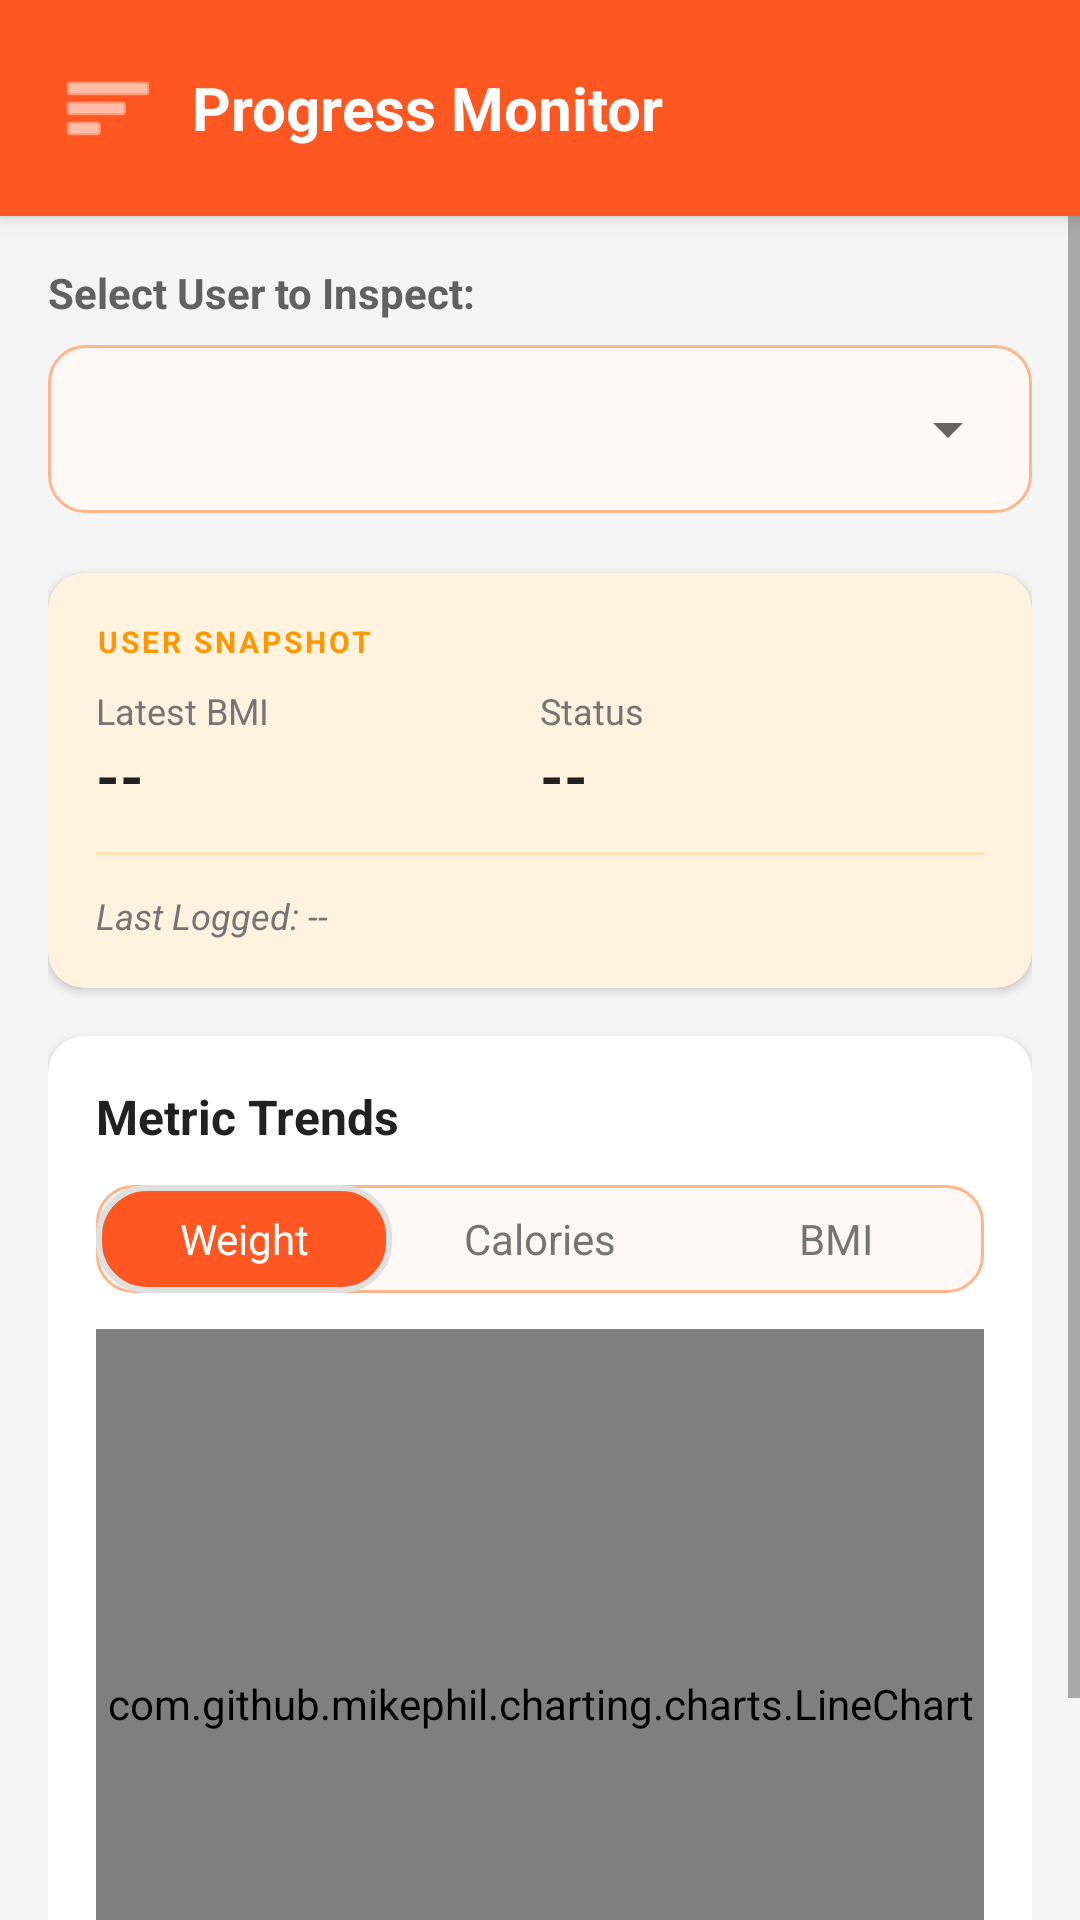

Icon bounding boxes for this 1080*1920 phone screenshot, format region(x1, y1, x2, y2):
sort by size: region(67, 82, 149, 135)
